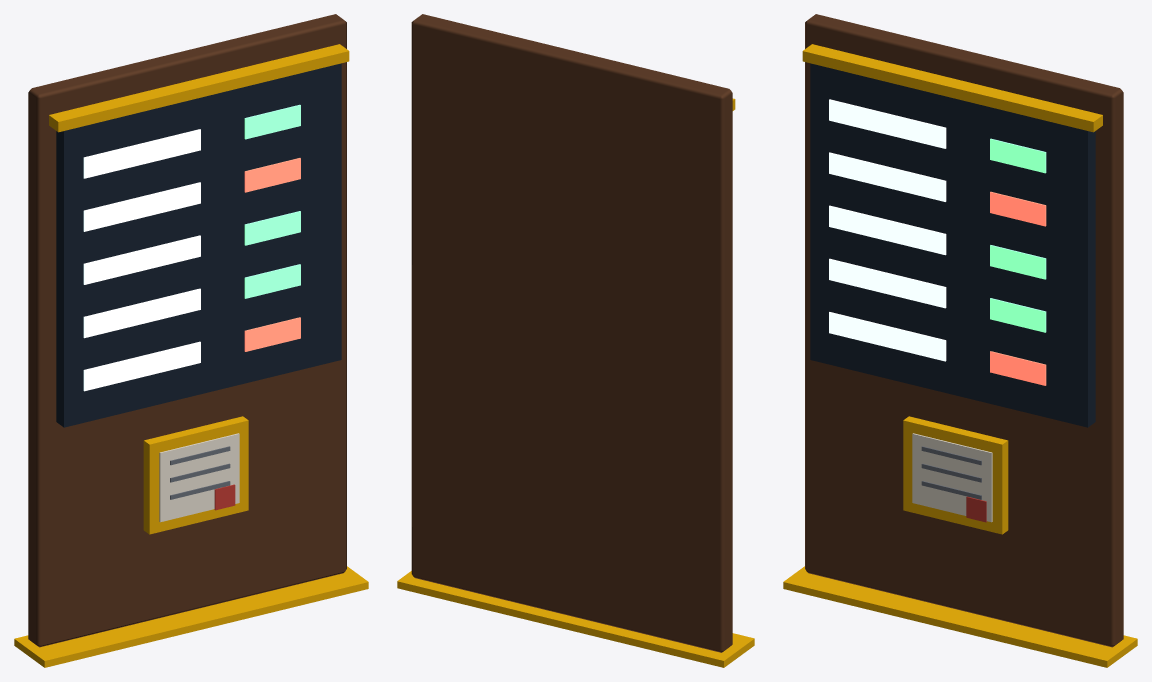
File: station_processing_ausstattung_1_2.glb
The picture shows the model from 3 angles, left to right: view 1: azimuth 30°, elevation 25°; view 2: azimuth 150°, elevation 25°; view 3: azimuth 330°, elevation 25°; orthographic projection.
Parts seen in each view (by area): view 1: station_processing_ausstattung_1_2; view 2: station_processing_ausstattung_1_2; view 3: station_processing_ausstattung_1_2.
Boxes of the visible parts, x1,y1,x2,y2 form: station_processing_ausstattung_1_2: [14, 14, 368, 667]; station_processing_ausstattung_1_2: [397, 14, 754, 667]; station_processing_ausstattung_1_2: [783, 14, 1137, 667].
Size of the model in its own units: 0.98 by 1.62 by 0.16.
